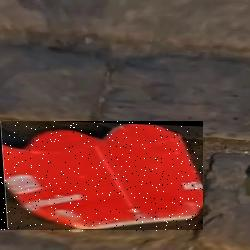restaffald: (0, 122, 203, 231)
